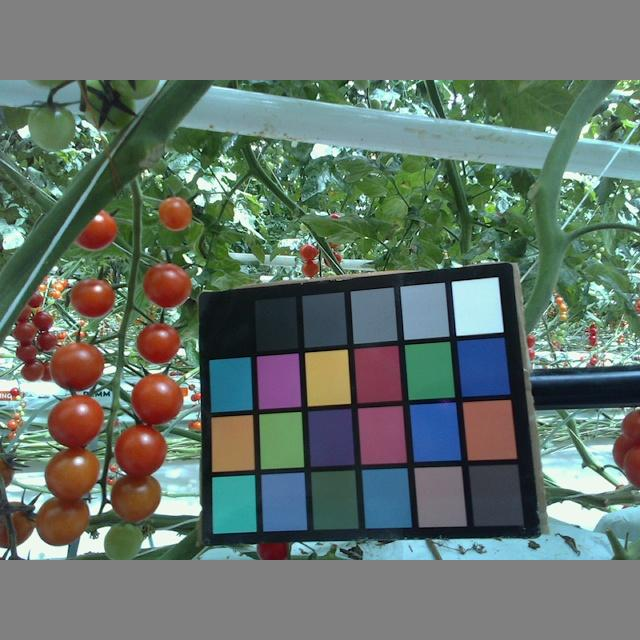green: (81, 81, 138, 130), (28, 101, 75, 150), (104, 523, 145, 559)
pink: (44, 446, 100, 500), (47, 395, 106, 446), (37, 492, 91, 546), (46, 341, 104, 390), (130, 372, 183, 423), (115, 426, 168, 477), (108, 471, 163, 519), (142, 264, 193, 307), (73, 206, 118, 250), (135, 321, 180, 363), (70, 278, 115, 316), (1, 500, 34, 550), (158, 195, 193, 231), (21, 358, 44, 382), (14, 322, 35, 347), (33, 309, 53, 332), (35, 331, 56, 351), (16, 343, 35, 364)
